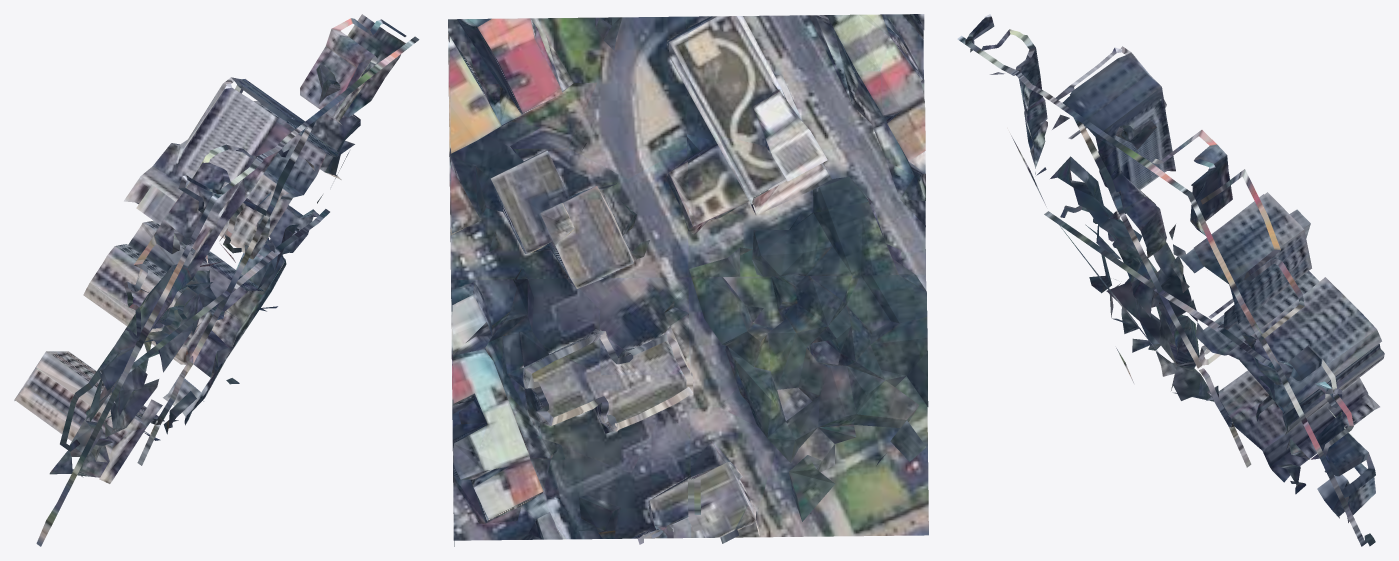
The picture shows the model from 3 angles, left to right: view 1: azimuth 30°, elevation 25°; view 2: azimuth 150°, elevation 25°; view 3: azimuth 270°, elevation 25°; orthographic projection. The views are drawn at different scales.
Size of the model in its own units: 152 by 151 by 135.
1 material, 1 textured.
